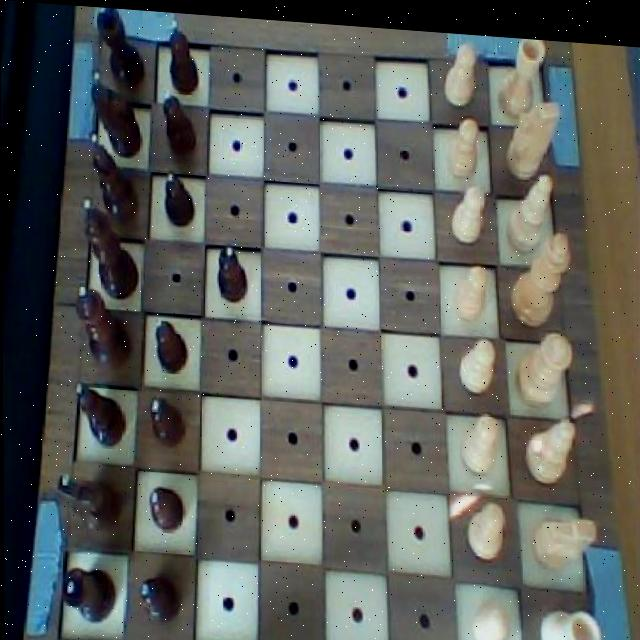bishop: (87, 130, 141, 225), (71, 381, 129, 447)
black-bishop: (79, 196, 140, 302)
black-king: (89, 70, 145, 161), (54, 469, 122, 540)
black-knight: (159, 85, 201, 158), (137, 565, 182, 624), (168, 12, 199, 92), (147, 390, 189, 448), (152, 313, 191, 375), (213, 235, 248, 300), (147, 478, 186, 532), (161, 166, 196, 224)
black-pawn: (72, 282, 133, 371)
black-queen: (495, 29, 548, 115), (96, 6, 150, 90), (60, 562, 119, 624), (535, 591, 605, 640)
black-rook: (503, 160, 555, 251), (523, 404, 581, 481)
white-bishop: (509, 221, 574, 323)
white-king: (501, 86, 562, 181), (528, 502, 599, 569)
white-knight: (446, 174, 488, 244), (464, 494, 509, 557), (448, 255, 492, 319), (443, 108, 484, 174), (460, 400, 499, 468), (457, 330, 499, 391), (443, 34, 479, 104), (467, 586, 513, 640)
white-pawn: (512, 319, 573, 404)
